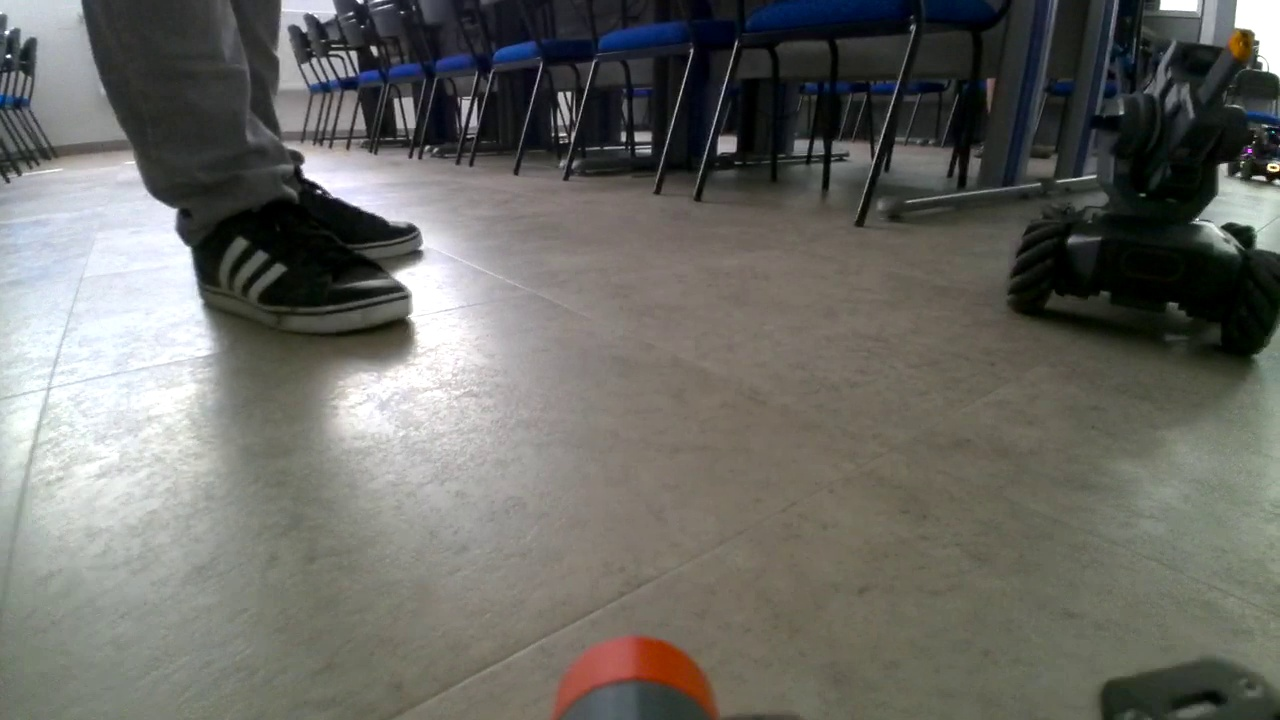robot: (1004, 37, 1280, 356), (1226, 120, 1280, 181)
